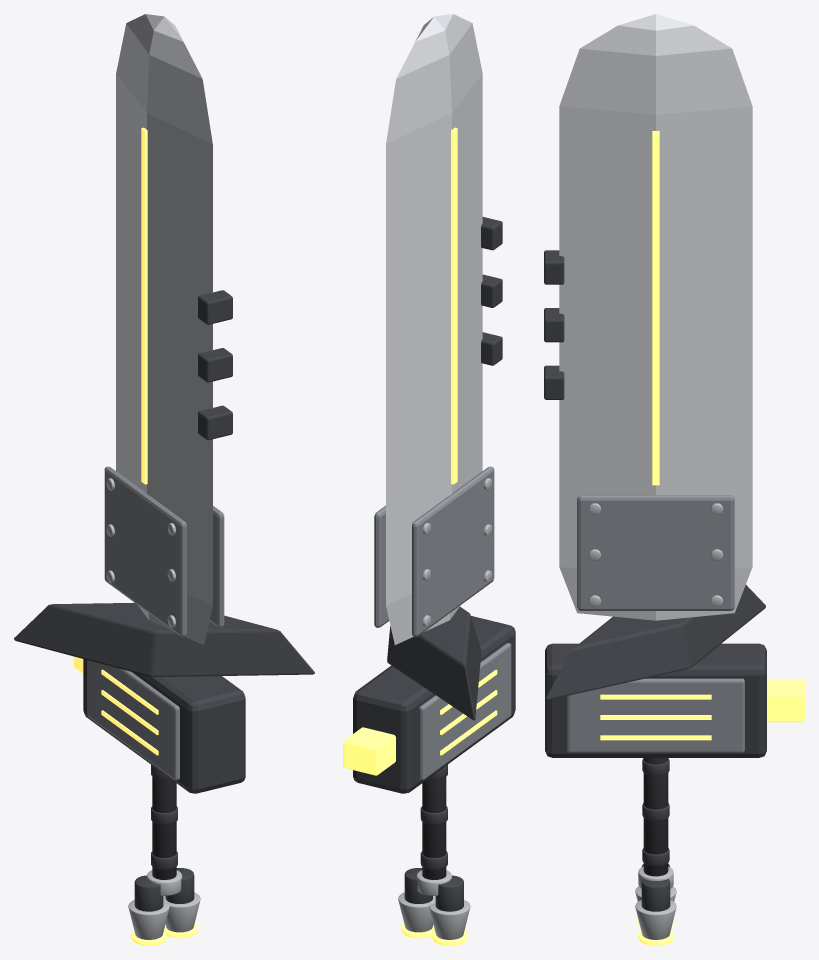
Rendered from breaker.glb.
3 renders of one model, left to right at view 1: azimuth 30°, elevation 25°; view 2: azimuth 150°, elevation 25°; view 3: azimuth 270°, elevation 25°, orthographic.
Visible parts, largest first — view 1: Blade, Collar, Plate-1, Housing, Cheek-1, Spine_L, Grip, Plate1, NozzleBell0, Tooth0, Tooth2, Tooth1 (+2 smaller); view 2: Blade, Plate-1, Housing, Collar, Cheek-1, Spine_L, CoreCell, Grip, Plate1, NozzleBell0, NozzleBell1, NozzleBody0 (+5 smaller); view 3: Blade, Plate1, Cheek1, Collar, Housing, Spine_R, Grip, CoreCell, NozzleBell1, NozzleBody1, Tooth1, Tooth2 (+4 smaller).
Boxes of the visible parts, <box> form: Blade: <box>116,14,212,644</box>; Collar: <box>14,602,314,677</box>; Plate-1: <box>104,466,186,636</box>; Housing: <box>83,659,245,793</box>; Cheek-1: <box>87,660,179,780</box>; Spine_L: <box>141,127,147,484</box>; Grip: <box>152,777,176,879</box>; Plate1: <box>209,506,224,627</box>; NozzleBell0: <box>128,900,169,939</box>; Tooth0: <box>198,405,232,440</box>; Tooth2: <box>198,290,232,324</box>; Tooth1: <box>198,348,232,382</box>; Blade: <box>386,14,482,644</box>; Plate-1: <box>412,466,494,636</box>; Housing: <box>353,616,515,793</box>; Collar: <box>387,607,481,720</box>; Cheek-1: <box>419,643,511,780</box>; Spine_L: <box>451,127,457,484</box>; CoreCell: <box>343,727,395,775</box>; Grip: <box>422,777,446,879</box>; Plate1: <box>374,505,389,627</box>; NozzleBell0: <box>429,900,470,939</box>; NozzleBell1: <box>398,892,435,932</box>; NozzleBody0: <box>435,875,463,911</box>; Blade: <box>559,14,752,620</box>; Plate1: <box>577,495,734,610</box>; Cheek1: <box>567,678,744,752</box>; Collar: <box>546,585,765,699</box>; Housing: <box>545,643,766,757</box>; Spine_R: <box>652,131,659,485</box>; Grip: <box>643,758,668,876</box>; CoreCell: <box>767,679,804,722</box>; NozzleBell1: <box>635,900,676,939</box>; NozzleBody1: <box>641,879,670,911</box>; Tooth1: <box>544,308,564,342</box>; Tooth2: <box>544,250,564,284</box>.
Size of the model in its own units: 0.866 by 3.98 by 1.03.
